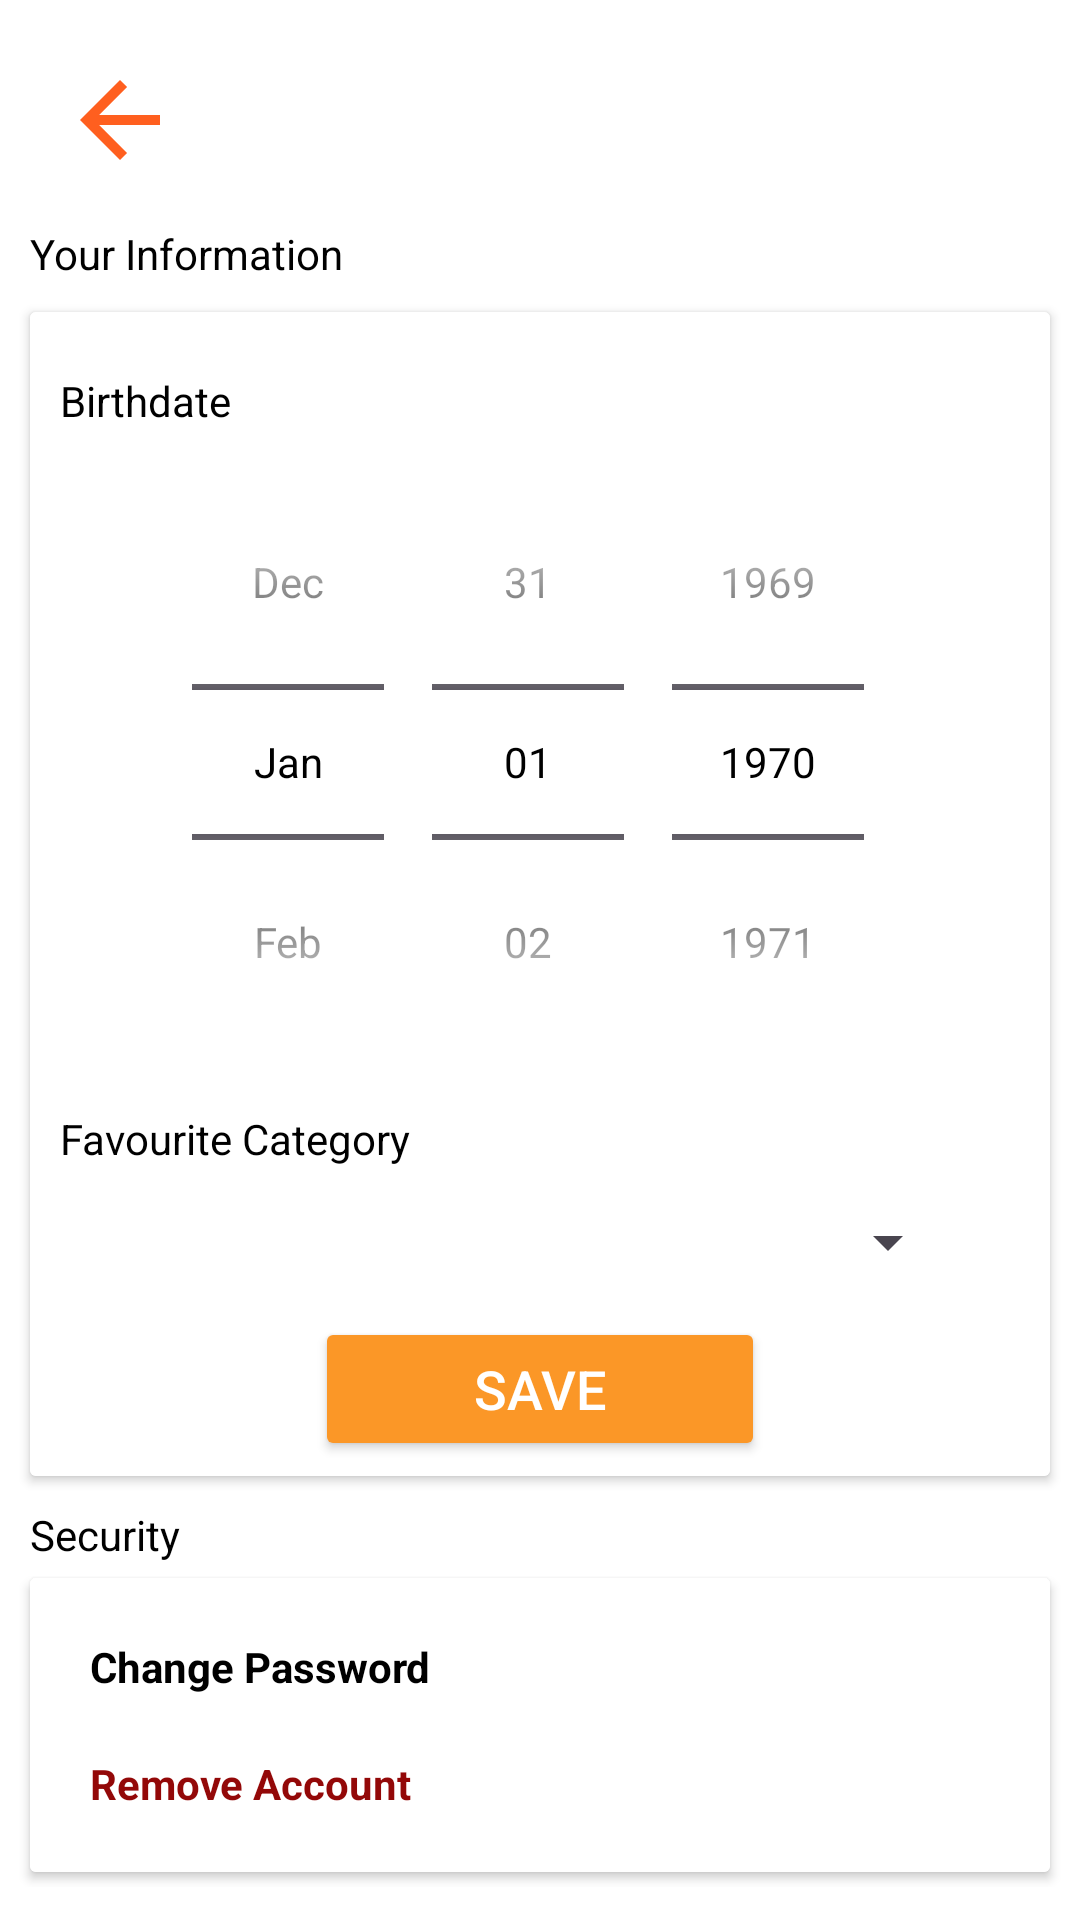

Icons on this 1080w x 1920h Android screen, each with its box as BBox(x1, y1, x2, y2):
arrow back: BBox(80, 80, 160, 160)
